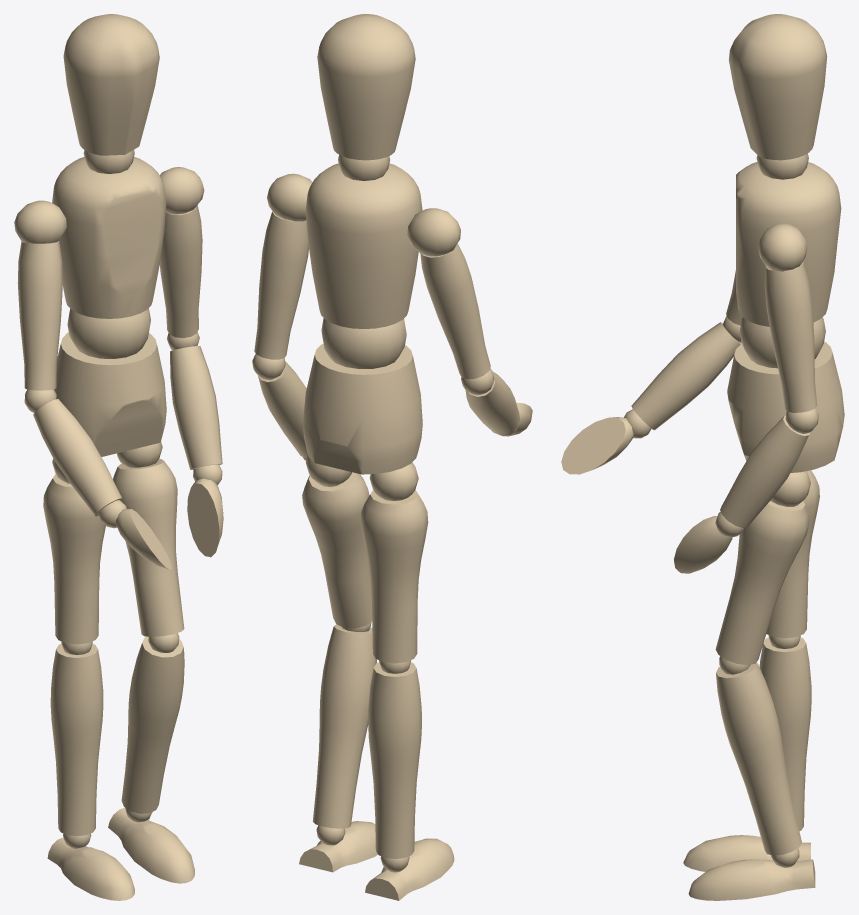
File: Mannequin S.fbx
The picture shows the model from 3 angles, left to right: view 1: azimuth 30°, elevation 25°; view 2: azimuth 150°, elevation 25°; view 3: azimuth 270°, elevation 25°; orthographic projection. The views are drawn at different scales.
Visible parts, largest first — view 1: Object_16, Object_17, Object_24, Object_29, Object_22, Object_30, Object_23, Object_25, Object_20, Object_18, Object_27, Object_19 (+12 smaller); view 2: Object_16, Object_24, Object_17, Object_22, Object_29, Object_30, Object_23, Object_18, Object_25, Object_2.001, Object_26, Object_20 (+8 smaller); view 3: Object_17, Object_16, Object_22, Object_23, Object_24, Object_18, Object_29, Object_27, Object_20, Object_19, Object_30, Object_28 (+7 smaller).
Part boxes in pixels (x1,y1,x2,y2): Object_16: (52,157,166,318); Object_17: (63,14,159,155); Object_24: (54,332,166,456); Object_29: (50,643,103,836); Object_22: (121,636,184,813); Object_30: (43,474,105,644); Object_23: (113,458,184,636); Object_25: (17,241,62,390); Object_20: (170,346,222,469); Object_18: (159,205,202,338); Object_27: (33,399,122,516); Object_19: (108,807,194,883); Object_16: (305,163,422,328); Object_24: (303,343,422,474); Object_17: (317,14,415,160); Object_22: (312,624,376,828); Object_29: (368,662,421,858); Object_30: (360,490,428,663); Object_23: (302,472,372,628); Object_18: (254,211,308,359); Object_25: (420,243,490,379); Object_2.001: (321,318,406,368); Object_26: (365,838,454,900); Object_20: (258,361,307,457); Object_17: (729,14,827,160); Object_16: (736,162,841,326); Object_22: (716,662,801,855); Object_23: (715,501,808,665); Object_24: (727,341,844,472); Object_18: (764,262,817,412); Object_29: (759,637,811,831); Object_27: (631,322,741,430); Object_20: (720,415,809,527); Object_19: (688,859,815,900); Object_30: (766,470,819,638); Object_28: (561,417,633,474).
Bounding box in the file's own units: 180 × 717 × 214.
